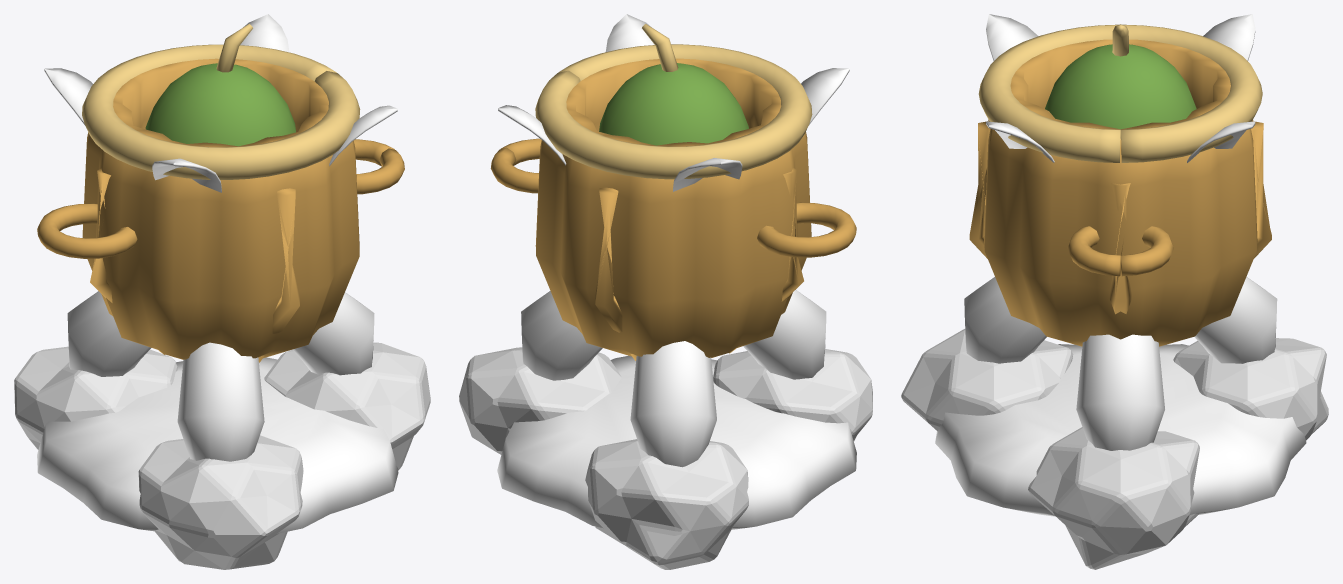
File: mortar-4.fbx
The picture shows the model from 3 angles, left to right: view 1: azimuth 30°, elevation 25°; view 2: azimuth 150°, elevation 25°; view 3: azimuth 270°, elevation 25°; orthographic projection. The views are drawn at different scales.
Visible parts, largest first — view 1: Turret_Metal, Base_Stone, ClayBerm, Turret_Organic, Core_Organic, Petals_Metal; view 2: Turret_Metal, Base_Stone, ClayBerm, Turret_Organic, Core_Organic, Petals_Metal; view 3: Turret_Metal, Base_Stone, ClayBerm, Turret_Organic, Core_Organic, Petals_Metal.
Boxes of the visible parts, bbox=[...] form: Turret_Metal: bbox=[37, 44, 404, 362]; Base_Stone: bbox=[14, 342, 430, 569]; ClayBerm: bbox=[37, 357, 398, 533]; Turret_Organic: bbox=[67, 291, 374, 461]; Core_Organic: bbox=[145, 24, 295, 146]; Petals_Metal: bbox=[44, 14, 397, 192]; Turret_Metal: bbox=[490, 44, 856, 360]; Base_Stone: bbox=[459, 347, 872, 569]; ClayBerm: bbox=[497, 355, 856, 529]; Turret_Organic: bbox=[521, 290, 826, 467]; Core_Organic: bbox=[599, 24, 748, 145]; Petals_Metal: bbox=[498, 14, 849, 191]; Turret_Metal: bbox=[969, 24, 1271, 346]; Base_Stone: bbox=[901, 329, 1328, 569]; ClayBerm: bbox=[935, 344, 1306, 516]; Turret_Organic: bbox=[964, 277, 1277, 450]; Core_Organic: bbox=[1045, 24, 1196, 129]; Petals_Metal: bbox=[986, 14, 1255, 162].
Bounding box in the file's own units: 101 × 120 × 96.34.
